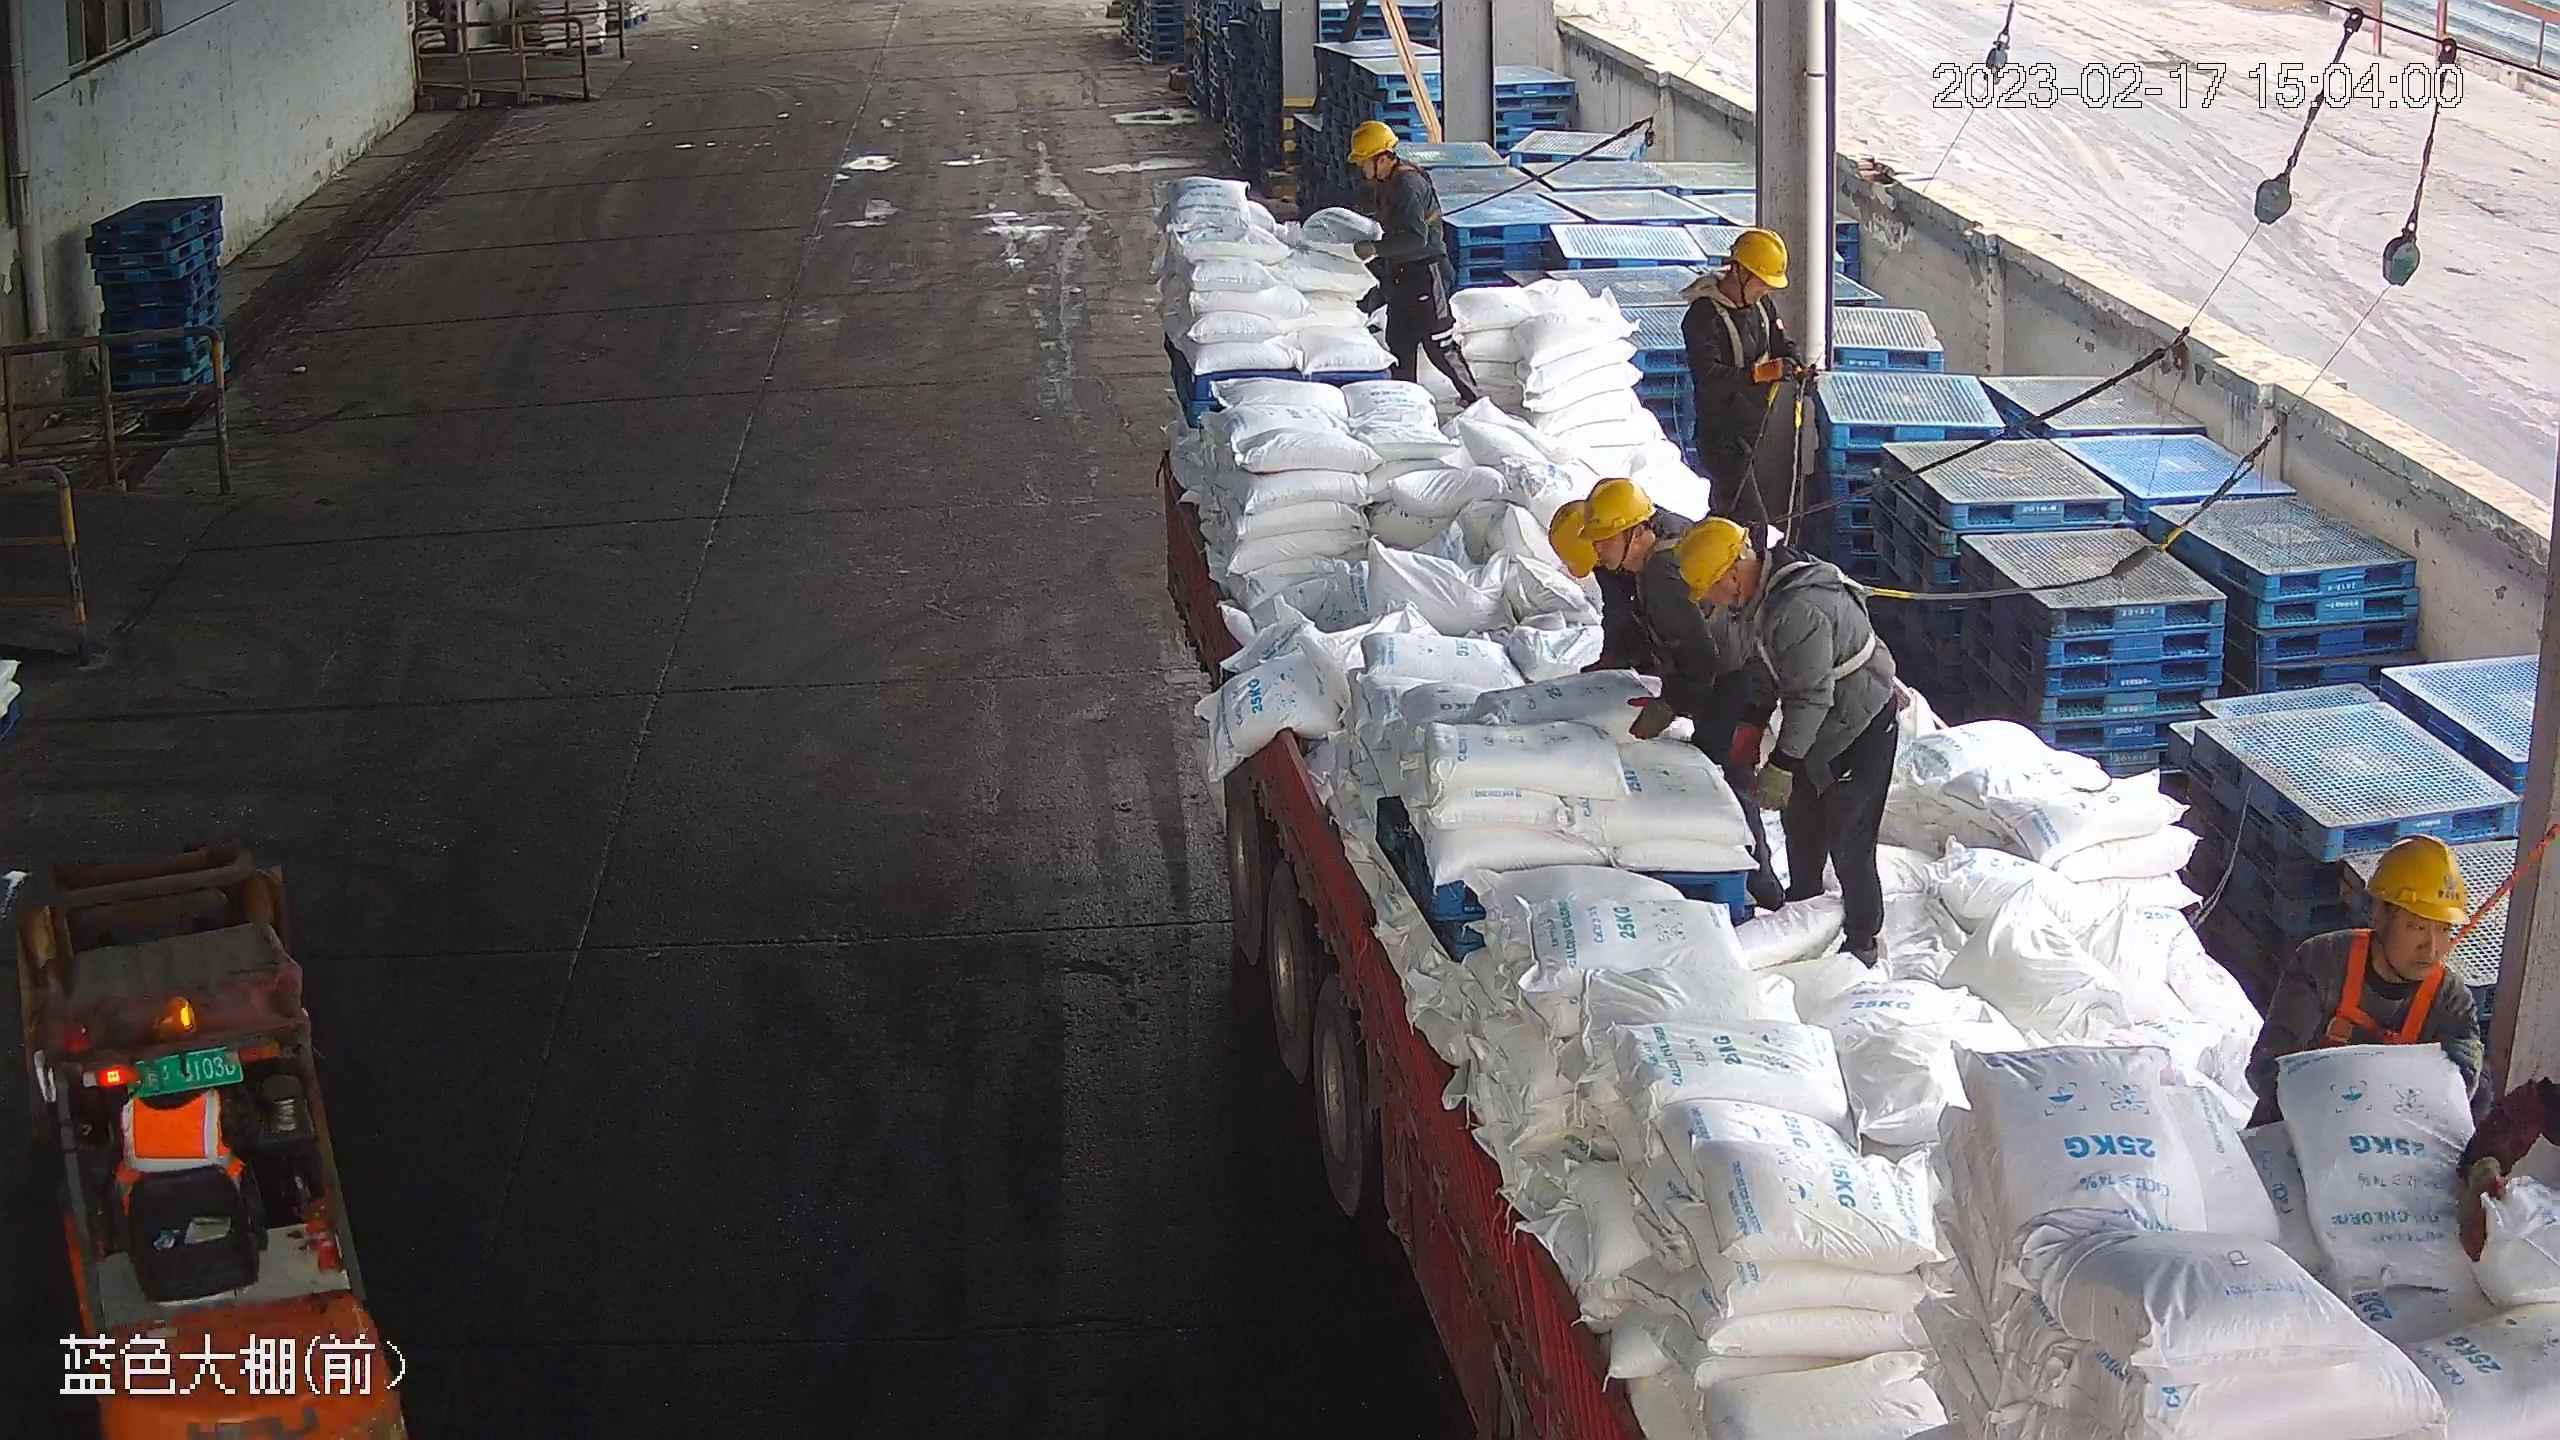belt: (1738, 549, 1884, 686), (2320, 923, 2467, 1050), (1695, 275, 1776, 363), (1369, 157, 1447, 229)
head: (2276, 829, 2487, 1021), (1671, 514, 1850, 650), (1546, 477, 1696, 606), (1680, 224, 1795, 344), (1347, 119, 1444, 213)
helmet: (2365, 831, 2472, 922), (1669, 512, 1753, 601), (1559, 480, 1637, 567), (1578, 473, 1654, 542), (1545, 495, 1603, 581), (1728, 223, 1790, 288), (1346, 117, 1399, 161)
people: (1665, 508, 1903, 974), (1683, 221, 1823, 557), (1337, 116, 1485, 408)
truck: (1138, 153, 2531, 1411)
